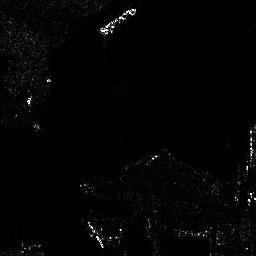ship: (99, 7, 136, 36)
